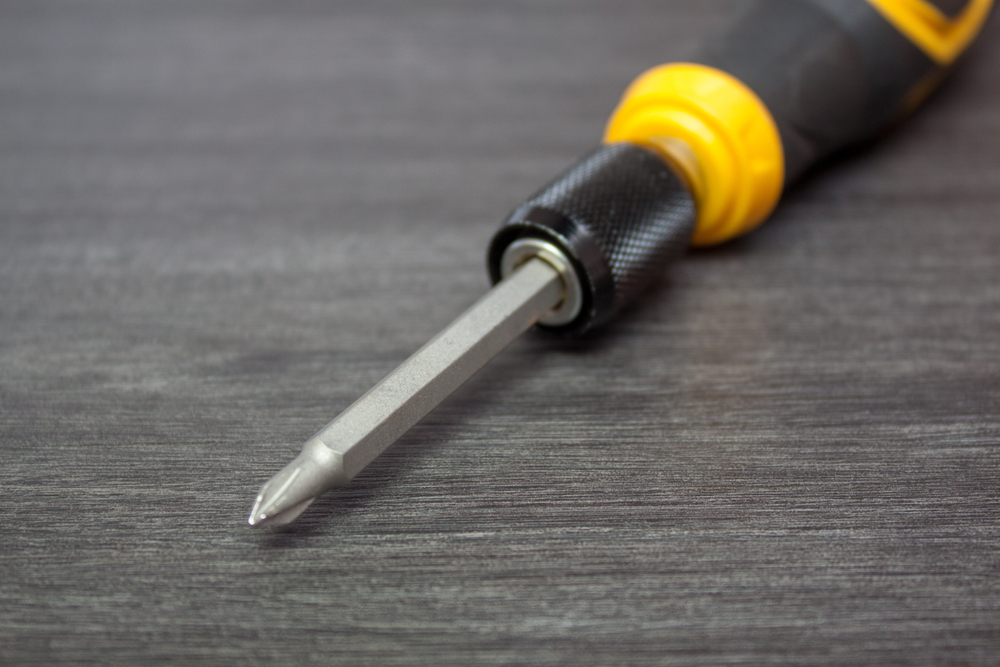screwdriver: (248, 1, 991, 530)
